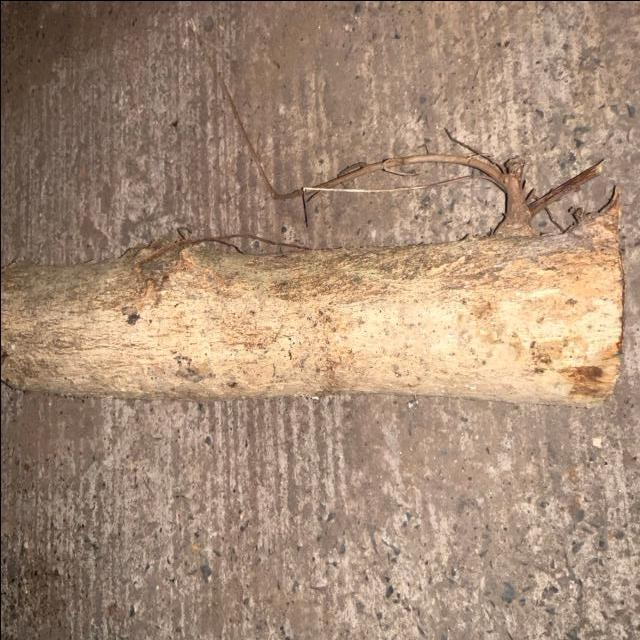General: (2, 3, 637, 638)
Infectious: (0, 192, 623, 408)
Sharps: (185, 20, 607, 240)
